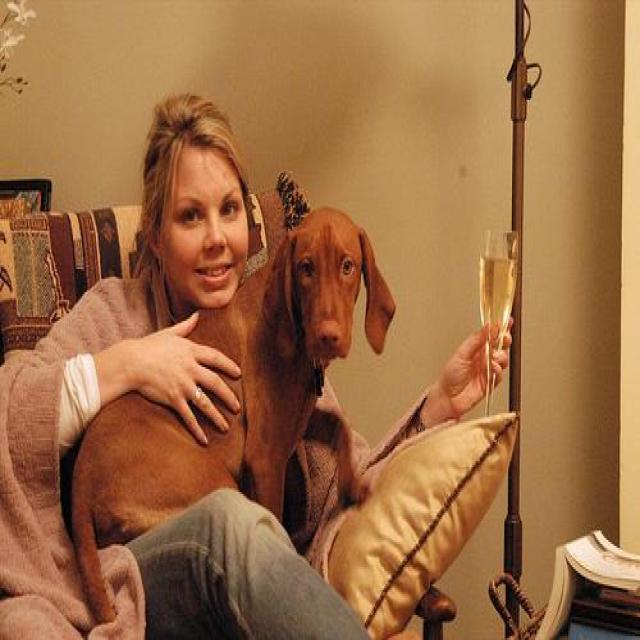vizsla: (69, 205, 396, 622)
